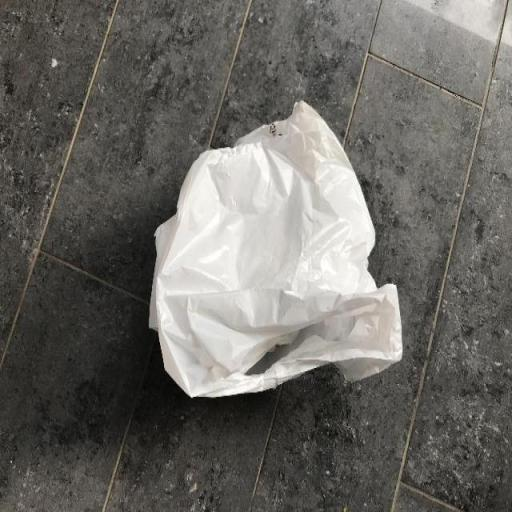plastic-bag: (152, 100, 408, 402)
